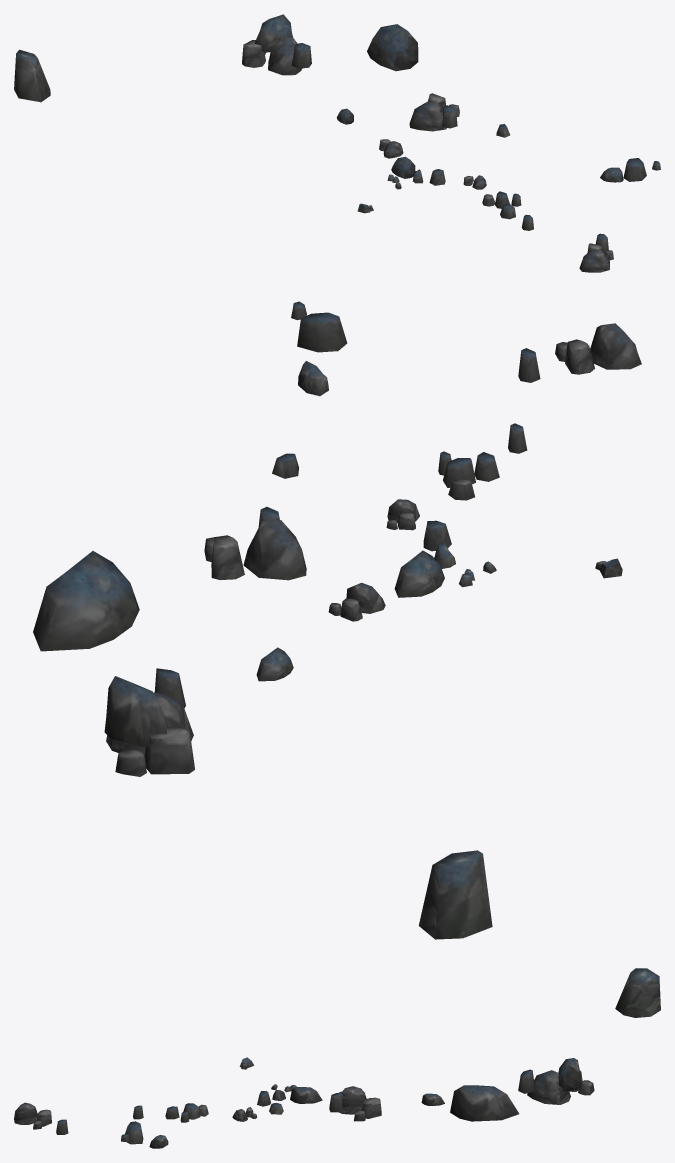
The model's file is shitou03.fbx.
The picture shows the model from 3 angles, top to bottom: view 1: azimuth 30°, elevation 25°; view 2: azimuth 150°, elevation 25°; view 3: azimuth 270°, elevation 25°; orthographic projection. The views are drawn at different scales.
Visible parts, largest first — view 1: shitou03; view 2: shitou03; view 3: shitou03.
Part boxes in pixels (x1,y1,x2,y2): shitou03: (14, 14, 660, 272); shitou03: (33, 301, 641, 939); shitou03: (14, 968, 660, 1148).
Bounding box in the file's own units: 5443 × 830 × 8604.
